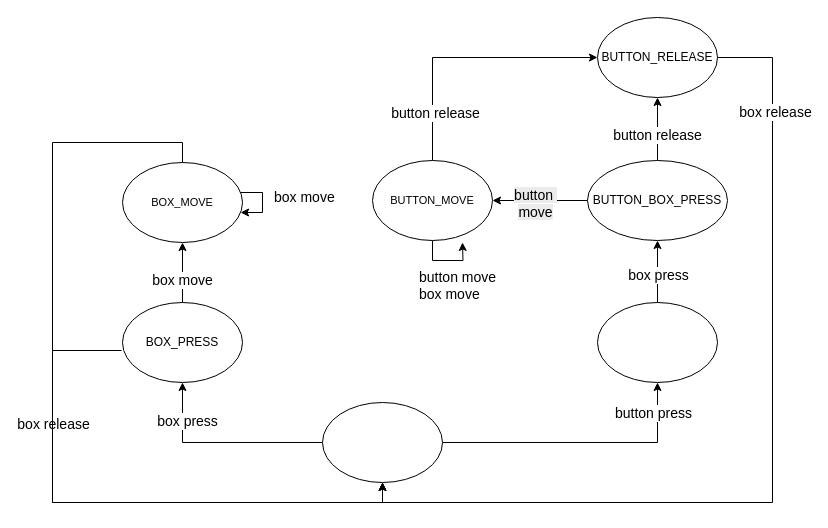
Some shapes in this 828 by 528 pixel diagram are drawn without their labels. The centre of each missing label's shape, as x and y in pixels:
"BUTTON_PRESS" belongs at point 657,342.
"START" belongs at point 382,442.
